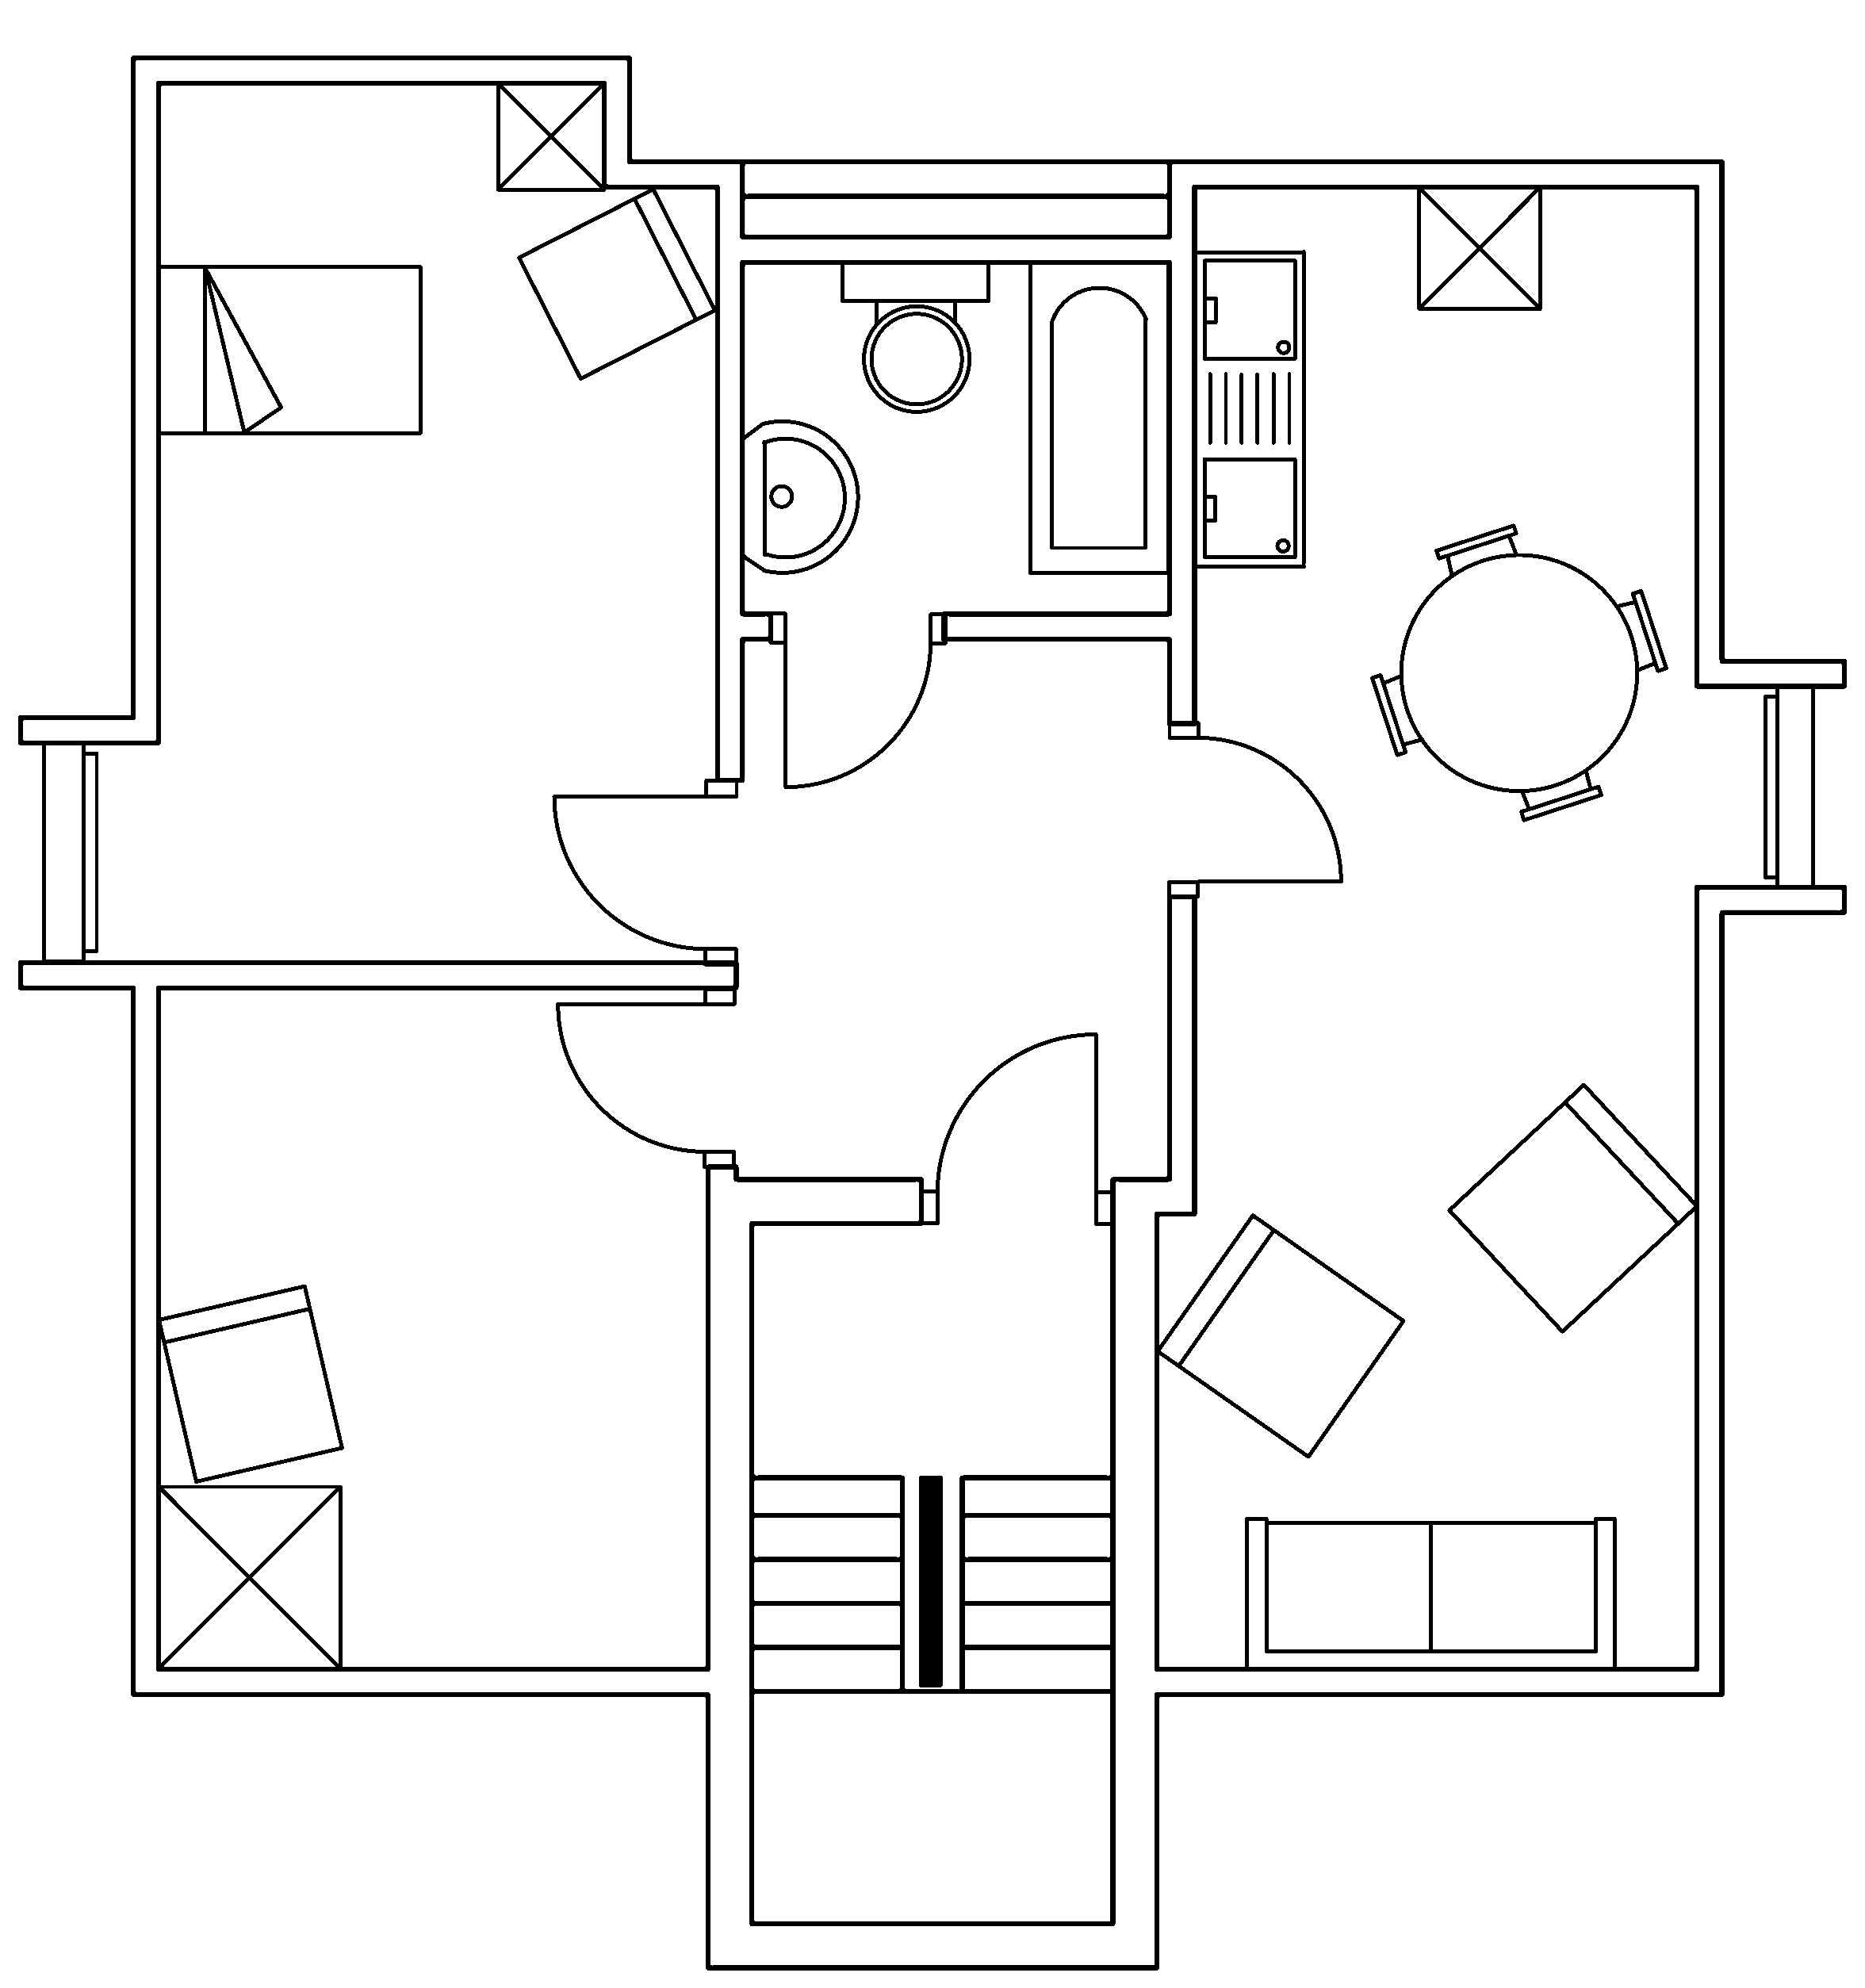bed: (154, 263, 422, 437)
coffee_table: (154, 1481, 342, 1671), (1416, 182, 1542, 310), (494, 79, 606, 191)
large_sink: (840, 258, 990, 412)
large_sofa: (1243, 1515, 1616, 1672)
round_table: (1369, 522, 1669, 822)
small_sink: (740, 419, 859, 573)
small_sofa: (1446, 1082, 1698, 1334), (1153, 1211, 1406, 1459), (515, 186, 717, 380), (156, 1282, 344, 1483)
tub: (1027, 258, 1171, 575)
twin_sink: (1192, 247, 1308, 570)
